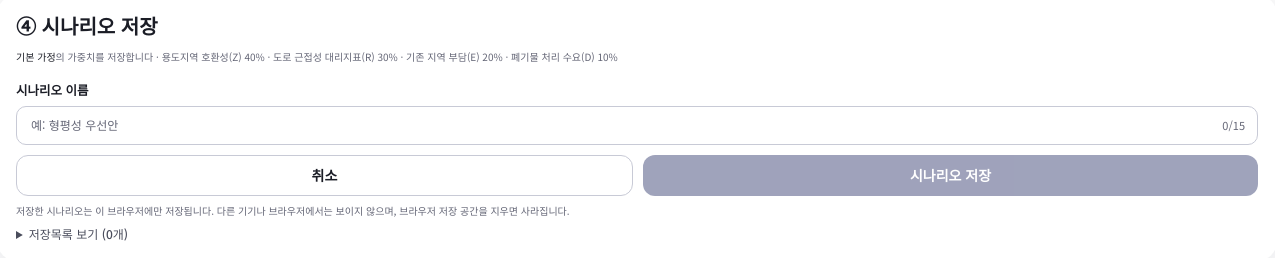
Test: save form › resets the field on 취소 without saving
In the field with test id "scenario-name-input": (623,125) x1=31 y1=117 x2=1214 y2=133, type "버릴 이름"
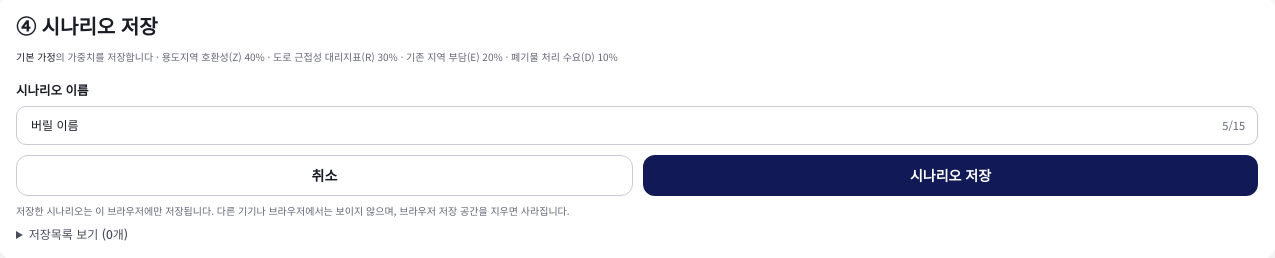
Click the button with test id "scenario-save-cancel": (324,175) x1=16 y1=155 x2=633 y2=196
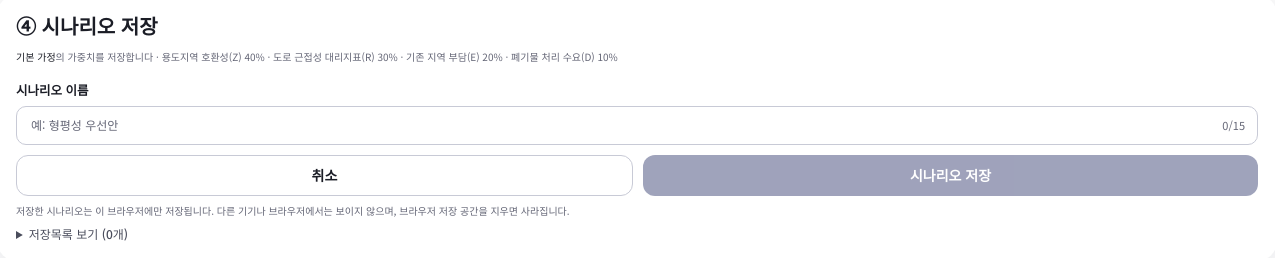
Expected: the field with test id "scenario-name-input" is empty, x1=31 y1=117 x2=1214 y2=133
